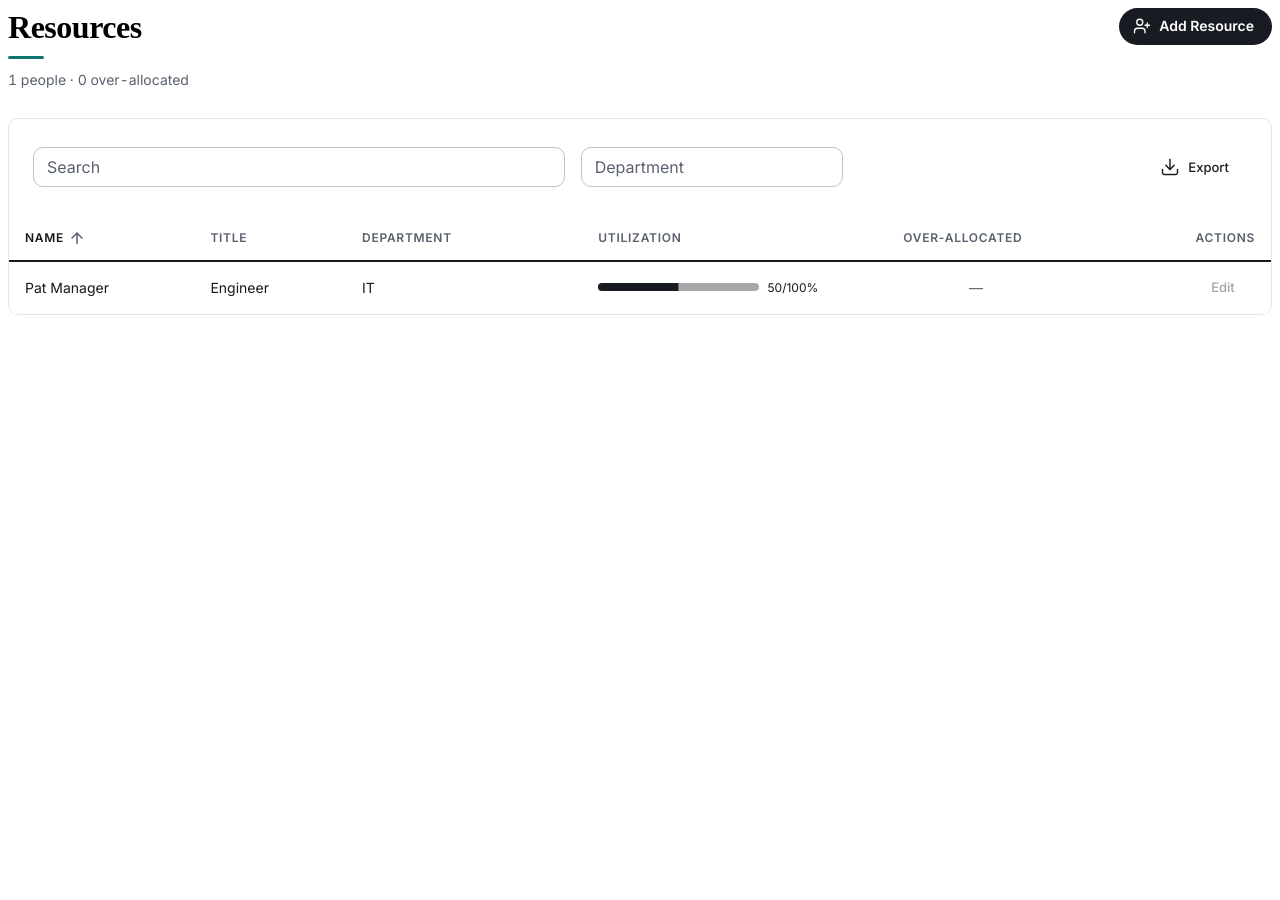
Test case: Resources page › create dialog user-picker › hides any user-picker (select or text field) when editing an existing row
Expected: the text "Pat Manager" is shown, 9,261 -> 194,313
Click the button "Edit".
click(1223, 288)  # box 1191,272 -> 1255,303
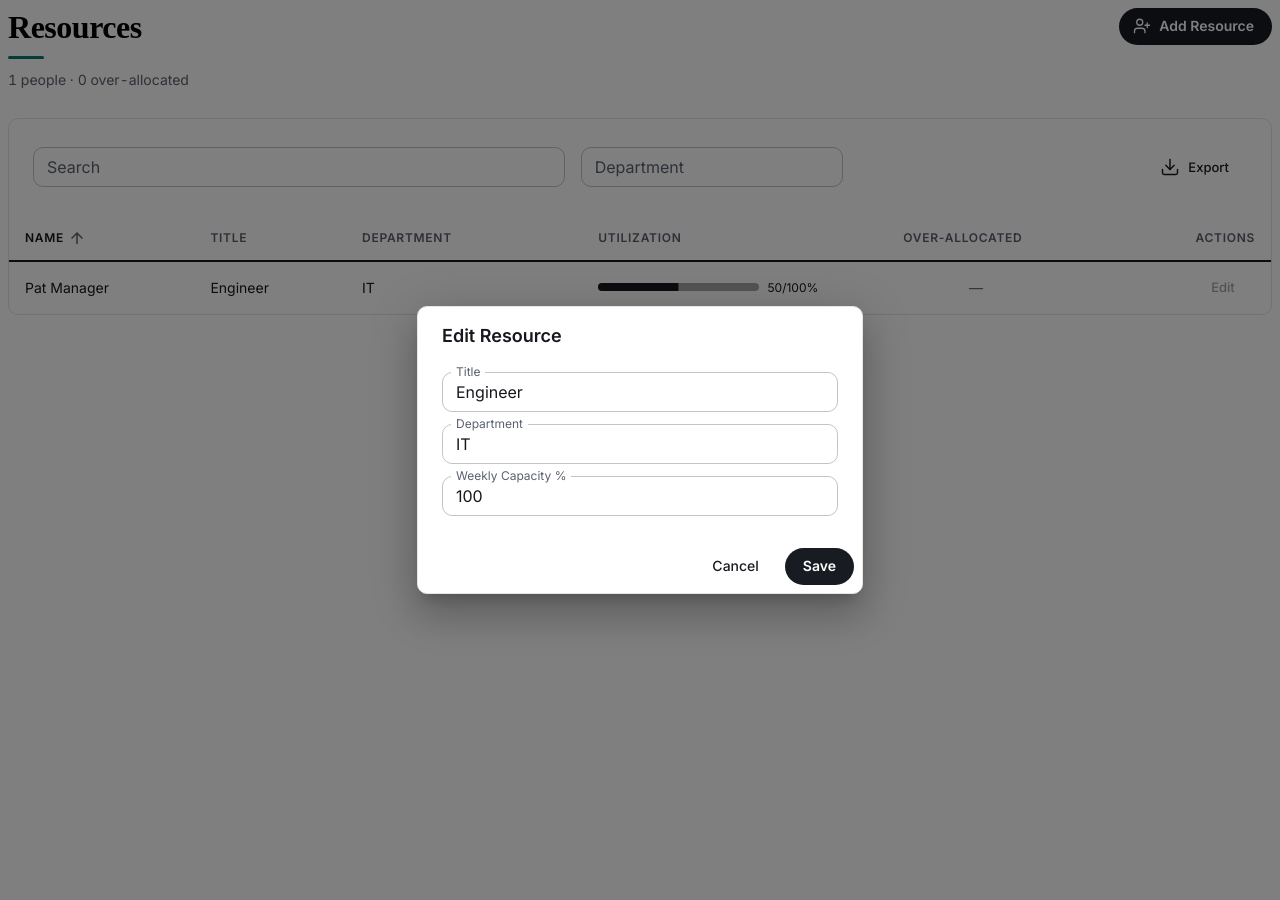
Expected: the heading "Edit Resource" is shown, 442,325 -> 562,346
